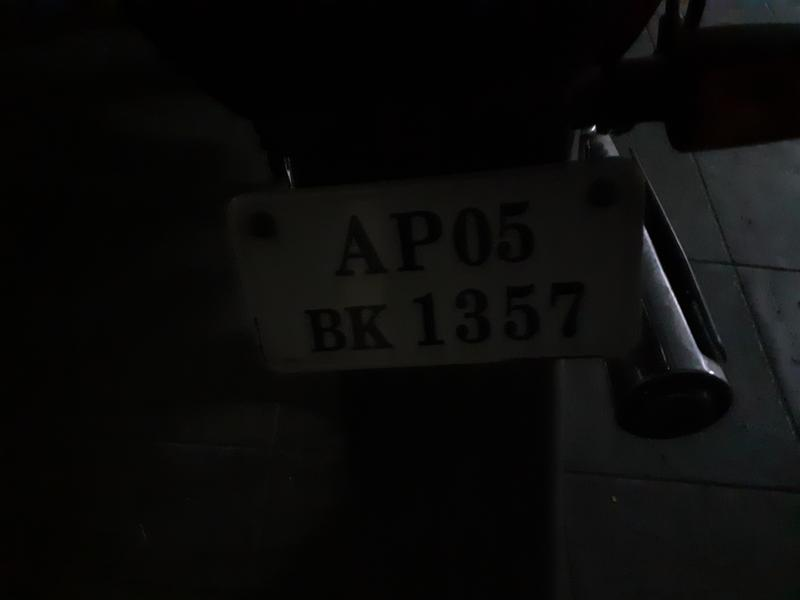numberplate: (231, 191, 643, 359)
